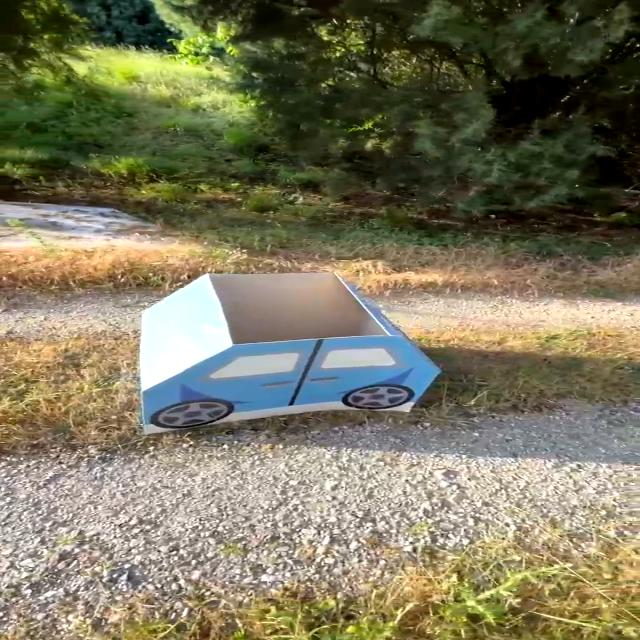blue_car: (75, 238, 489, 441)
